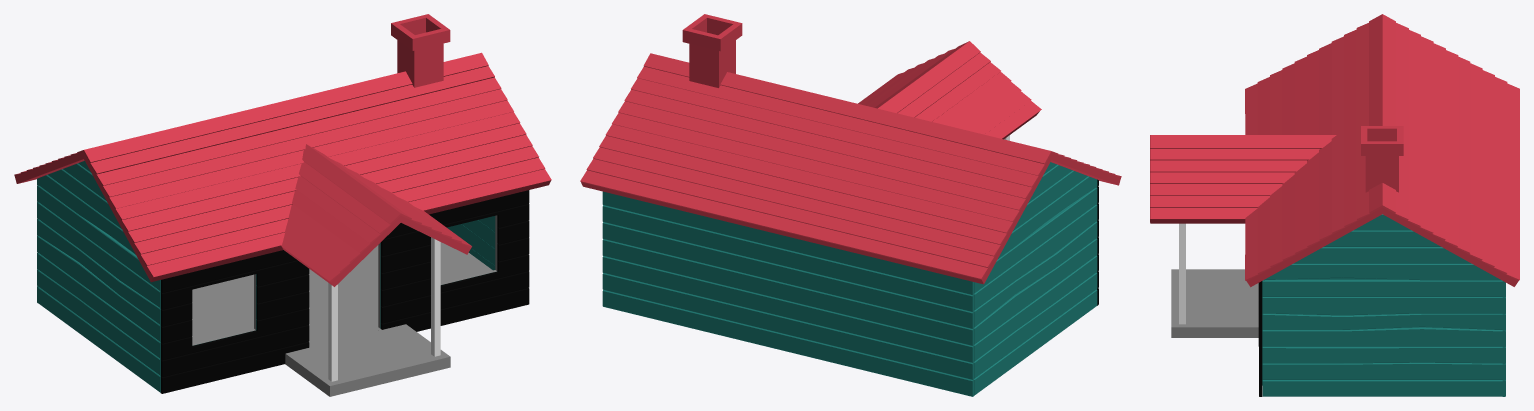
The model's file is 027 House_1.FBX.
3 views of the same model, side by side, from view 1: azimuth 30°, elevation 25°; view 2: azimuth 150°, elevation 25°; view 3: azimuth 270°, elevation 25° (orthographic). The views are drawn at different scales.
Parts seen in each view (by area): view 1: Box020, Box318; view 2: Box020, Box318; view 3: Box020, Box318.
Part boxes in pixels (x1,y1,x2,y2): Box020: (14, 14, 551, 396); Box318: (37, 160, 529, 393); Box020: (580, 14, 1121, 284); Box318: (602, 162, 1098, 396); Box020: (1150, 14, 1519, 385); Box318: (1258, 214, 1505, 396).
Size of the model in its own units: 681 by 399 by 557.
